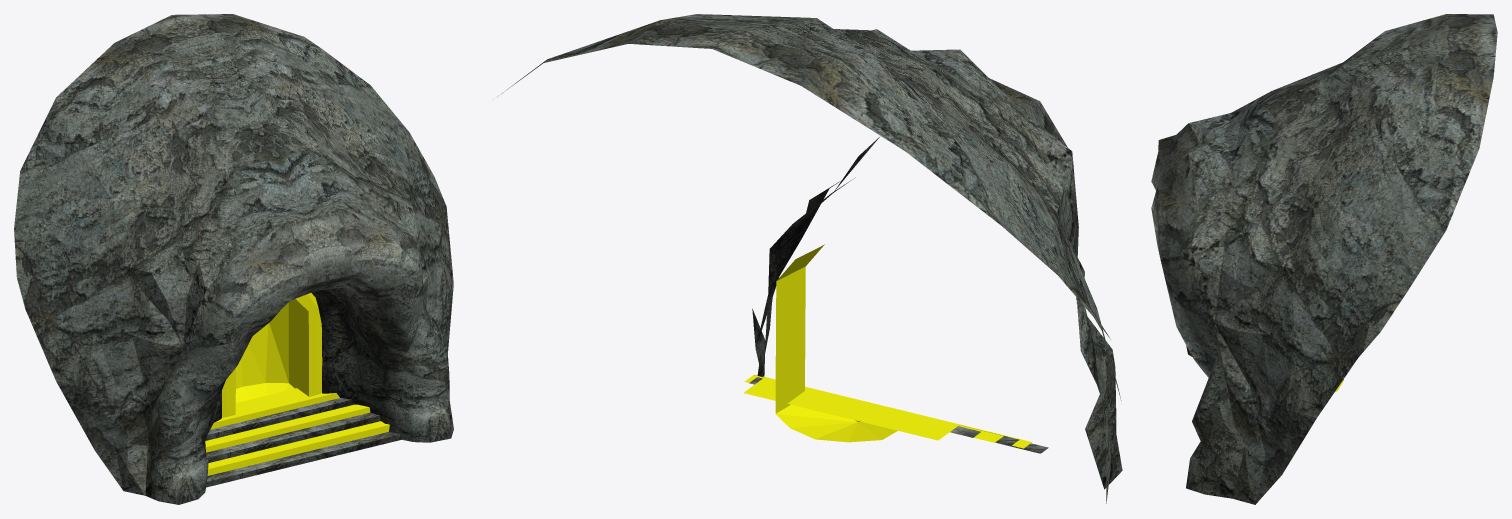
Rendered from gls_gate_01.glb.
The picture shows the model from 3 angles, left to right: view 1: azimuth 30°, elevation 25°; view 2: azimuth 150°, elevation 25°; view 3: azimuth 270°, elevation 25°; orthographic projection. The views are drawn at different scales.
Visible parts, largest first — view 1: gls_gate_01_gate_rock, gls_gate_01_gate_rock2, gls_gate_01_gate_bilid; view 2: gls_gate_01_gate_rock, gls_gate_01_gate_bilid, gls_gate_01_gate_rock2; view 3: gls_gate_01_gate_rock, gls_gate_01_gate_rock2.
Boxes of the visible parts, x1,y1,x2,y2 form: gls_gate_01_gate_rock: [14, 14, 453, 495]; gls_gate_01_gate_rock2: [145, 209, 453, 504]; gls_gate_01_gate_bilid: [205, 293, 389, 475]; gls_gate_01_gate_rock: [502, 14, 1121, 503]; gls_gate_01_gate_bilid: [744, 244, 1031, 448]; gls_gate_01_gate_rock2: [749, 78, 1122, 489]; gls_gate_01_gate_rock: [1188, 14, 1497, 504]; gls_gate_01_gate_rock2: [1151, 123, 1244, 498].
Size of the model in its own units: 32.4 by 26.15 by 21.18.
3 materials, 3 textured.
